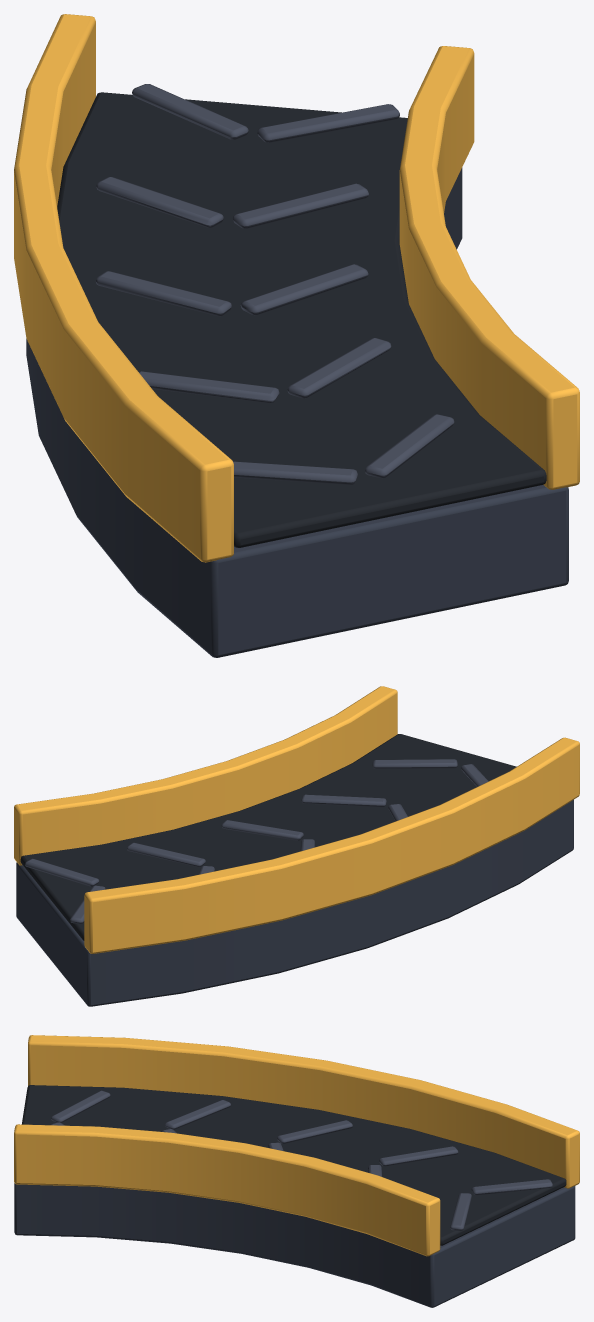
The model's file is band_kurve_45_r3.fbx.
3 renders of one model, top to bottom at view 1: azimuth 30°, elevation 25°; view 2: azimuth 150°, elevation 25°; view 3: azimuth 270°, elevation 25°, orthographic. The views are drawn at different scales.
Parts seen in each view (by area): view 1: band_kurve_45_r3_Koerper; view 2: band_kurve_45_r3_Koerper; view 3: band_kurve_45_r3_Koerper.
Boxes of the visible parts, bbox=[...] form: band_kurve_45_r3_Koerper: bbox=[14, 14, 579, 657]; band_kurve_45_r3_Koerper: bbox=[14, 686, 579, 1006]; band_kurve_45_r3_Koerper: bbox=[14, 1035, 579, 1307].
Bounding box in the file's own units: 1.77 × 0.52 × 2.48.
